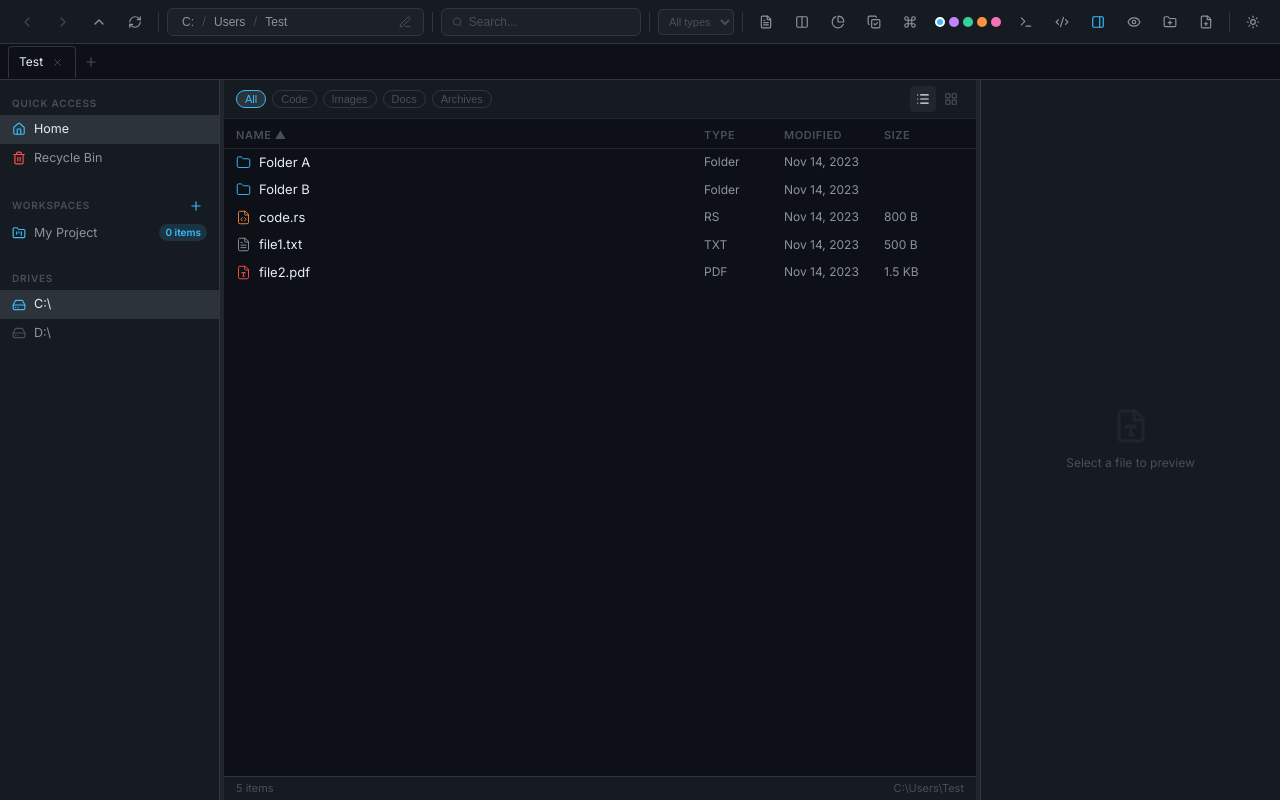
Test case: App Component Full Integration Suite › handles sidebar Workspace creation and switching
The width and height of the screenshot is (1280, 800).
Expected: the text "file1.txt" is shown, left=259, top=235, right=302, bottom=254
# Create Workspace
Click the button titled "Create New Workspace" at (196, 206), box left=185, top=196, right=207, bottom=214
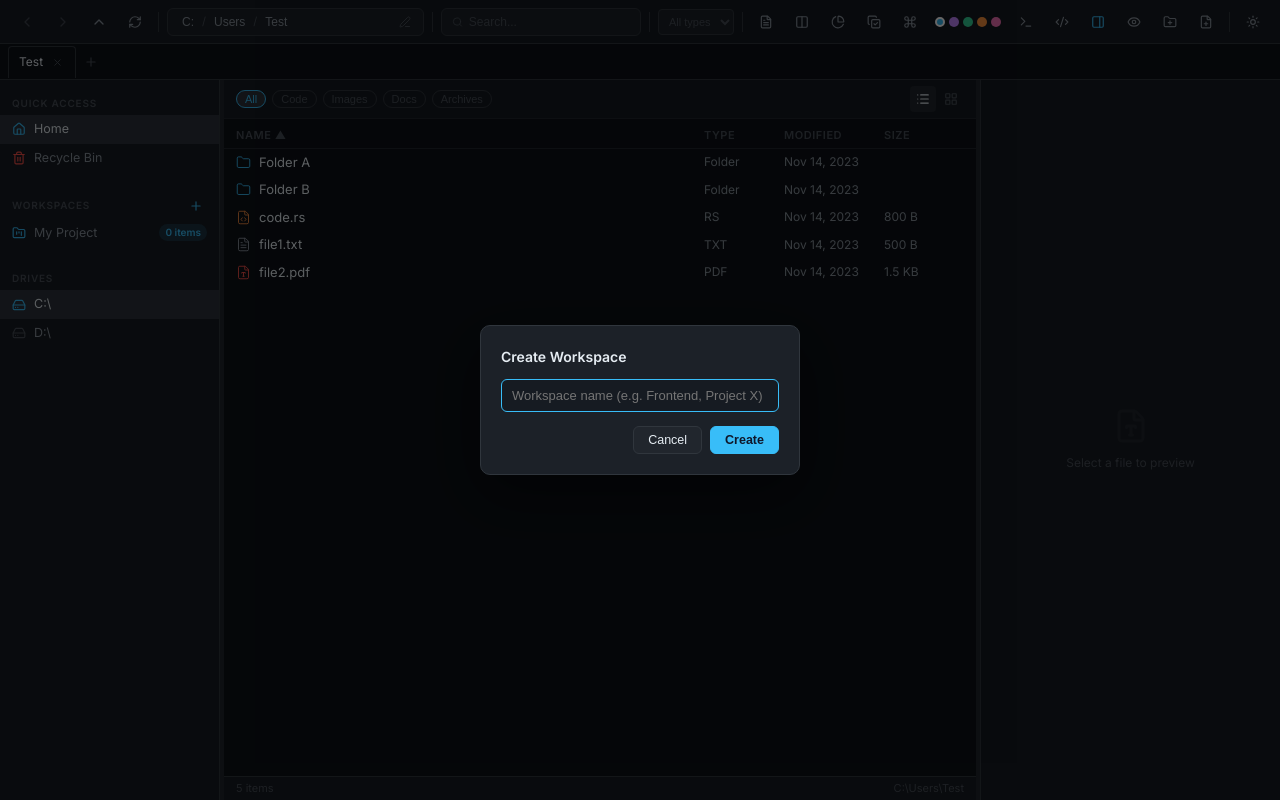
Now the field with placeholder "Workspace name (e.g. Frontend, Project X)" is shown
Type "Frontend UI" into the field with placeholder "Workspace name (e.g. Frontend, Project X)" at (640, 396), box left=501, top=379, right=779, bottom=412
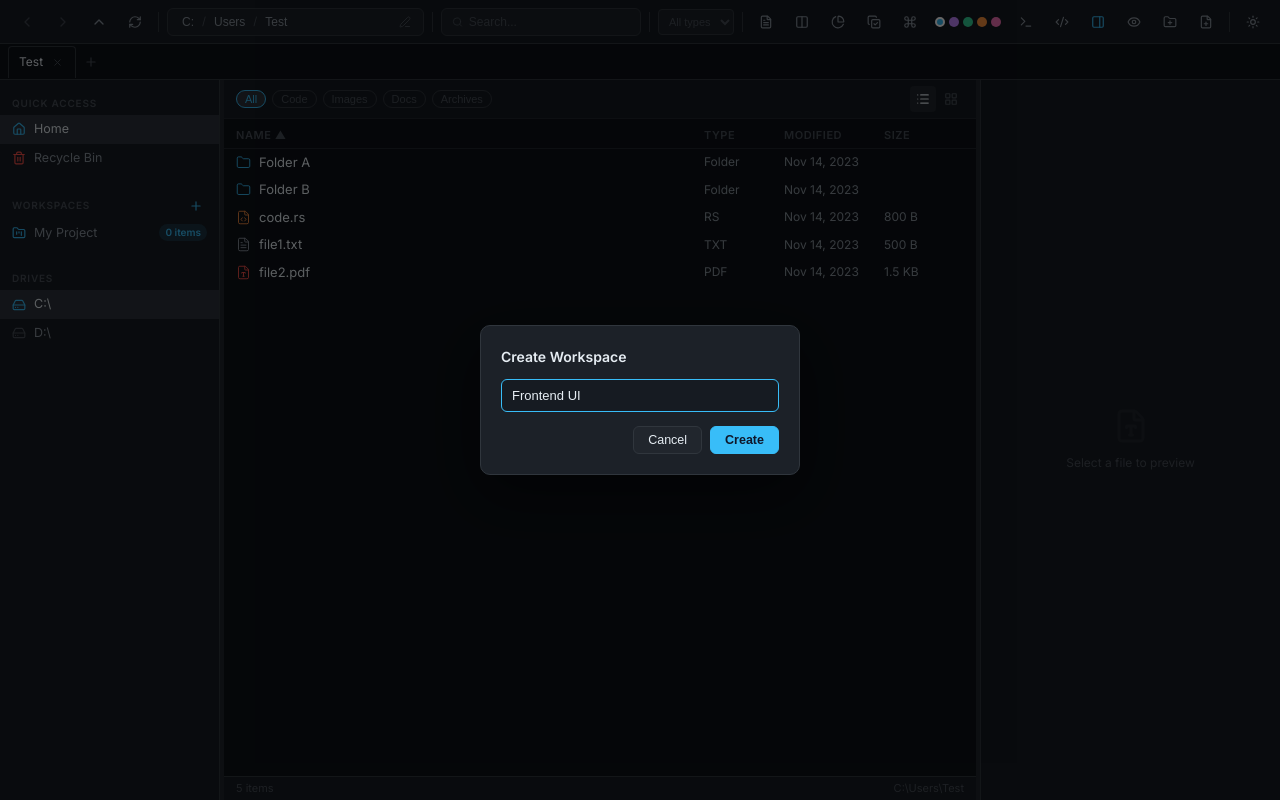
Click the button "Create" at (745, 440), box left=710, top=426, right=779, bottom=454
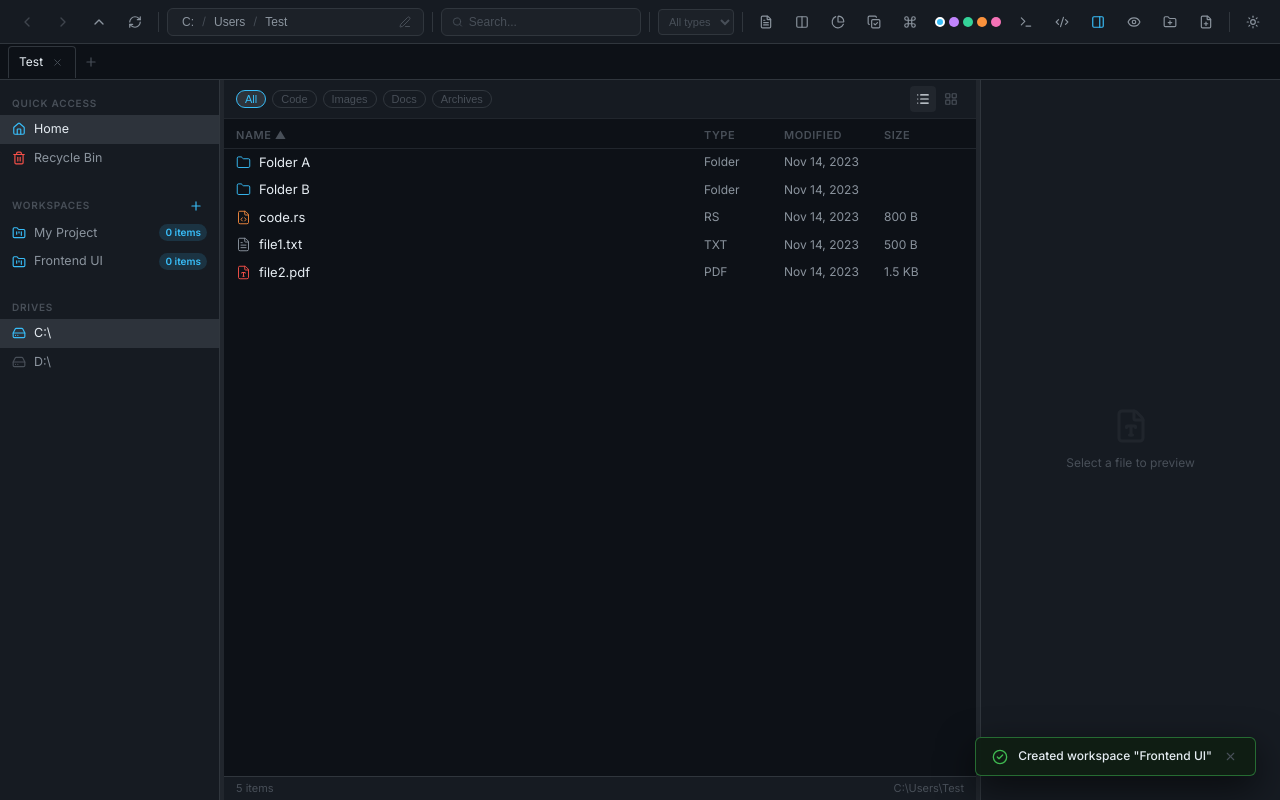
Now the text "Frontend UI" is shown, box left=34, top=252, right=103, bottom=271
